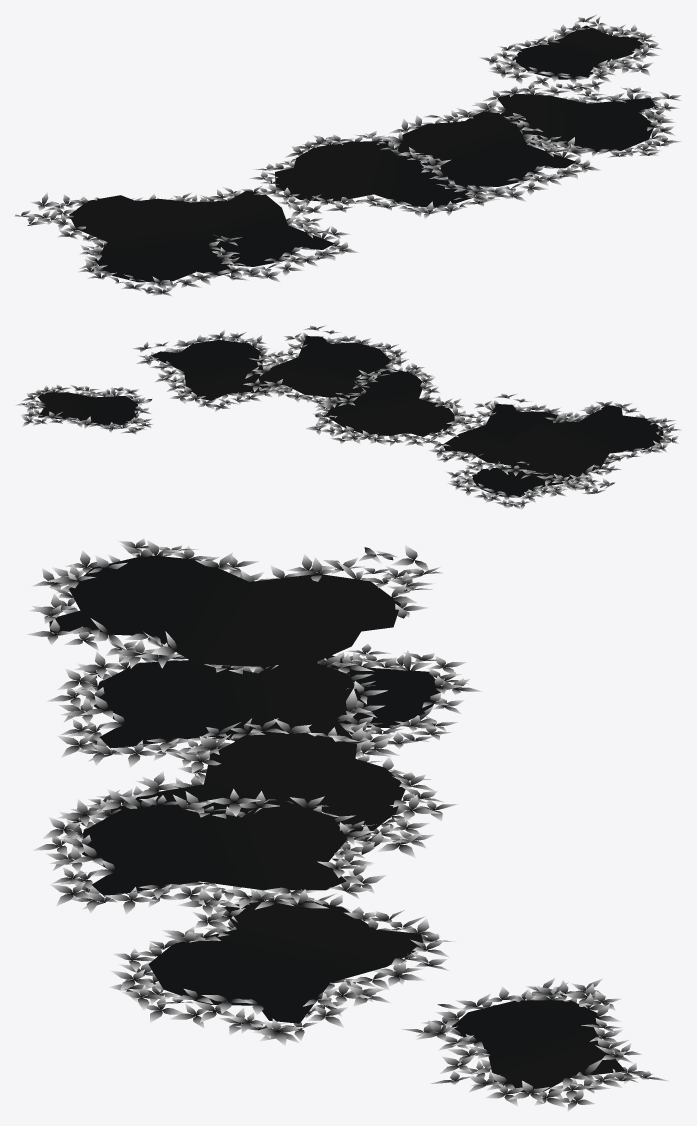
The model's file is SM_ENV_KNFRST_LeafShadow_GroupA.FBX.
3 views of the same model, one above another, from view 1: azimuth 30°, elevation 25°; view 2: azimuth 150°, elevation 25°; view 3: azimuth 270°, elevation 25° (orthographic). The views are drawn at different scales.
Parts seen in each view (by area): view 1: SM_ENV_KNFRST_LeafShadow_GroupA; view 2: SM_ENV_KNFRST_LeafShadow_GroupA; view 3: SM_ENV_KNFRST_LeafShadow_GroupA.
Boxes of the visible parts, x1,y1,x2,y2 form: SM_ENV_KNFRST_LeafShadow_GroupA: [14, 14, 681, 296]; SM_ENV_KNFRST_LeafShadow_GroupA: [15, 325, 681, 509]; SM_ENV_KNFRST_LeafShadow_GroupA: [26, 538, 669, 1111].
Size of the model in its own units: 2786 by 197 by 1402.
